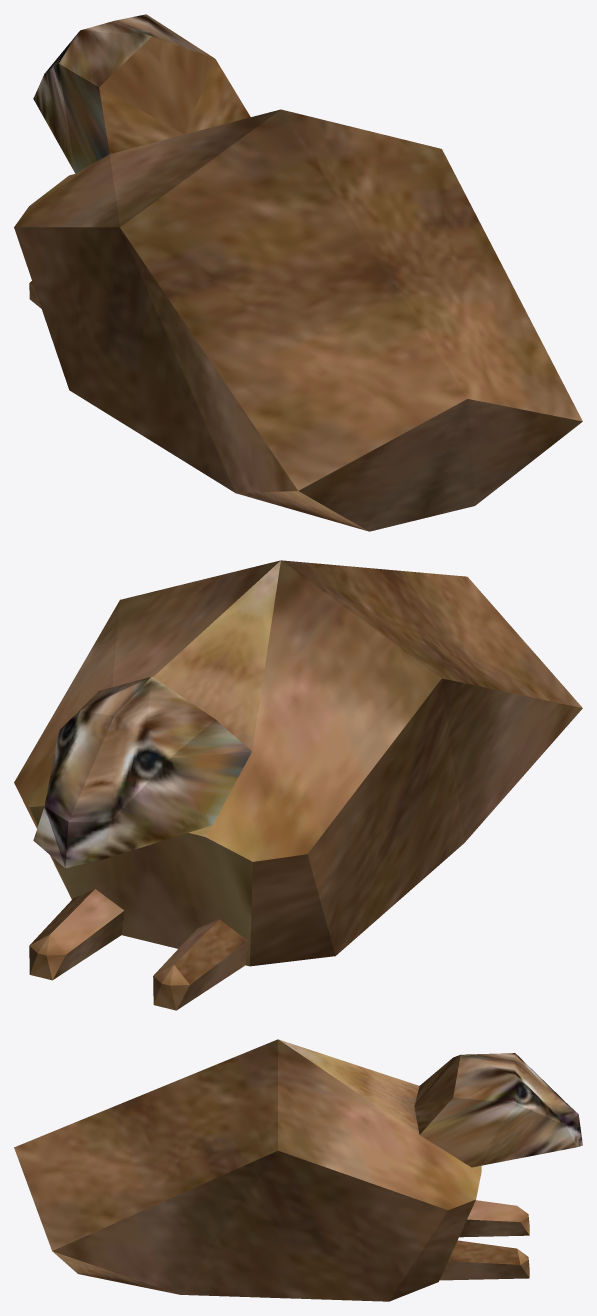
The model's file is psx_floppa (1).glb.
The picture shows the model from 3 angles, top to bottom: view 1: azimuth 30°, elevation 25°; view 2: azimuth 150°, elevation 25°; view 3: azimuth 270°, elevation 25°; orthographic projection. The views are drawn at different scales.
Visible parts, largest first — view 1: Object_2; view 2: Object_2; view 3: Object_2.
Boxes of the visible parts, left/top/right/bottom form: Object_2: left=14, top=14, right=582, bottom=531; Object_2: left=14, top=560, right=582, bottom=1010; Object_2: left=14, top=1039, right=582, bottom=1301.
Size of the model in its own units: 3.4 by 3.09 by 7.35.
Materials: 1 (1 with a texture image).
